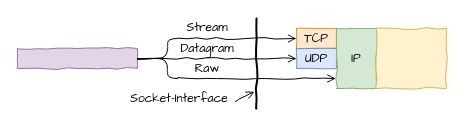
This 464x127 diagram has some shape labels left out. Each missing label, with the centre of its shape:
"Application" belongs at (77,58).
"Netzwerk" belongs at (411,58).
